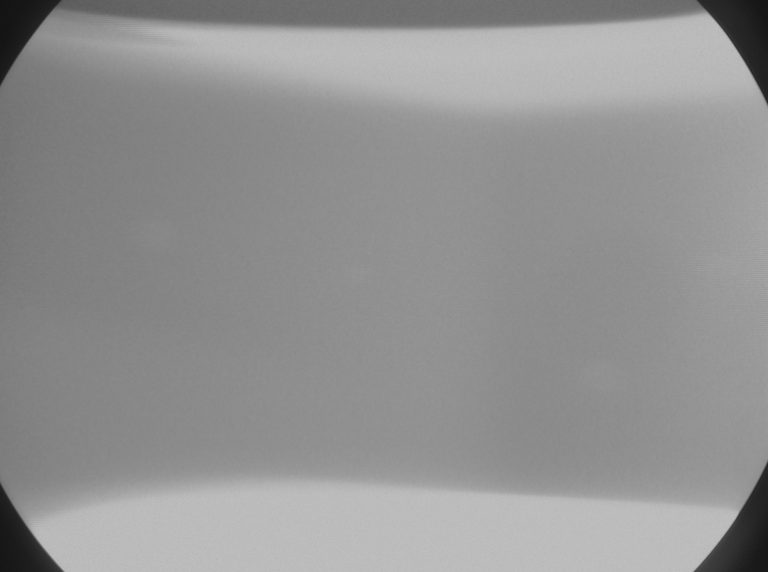defect: (571, 351, 618, 387)
